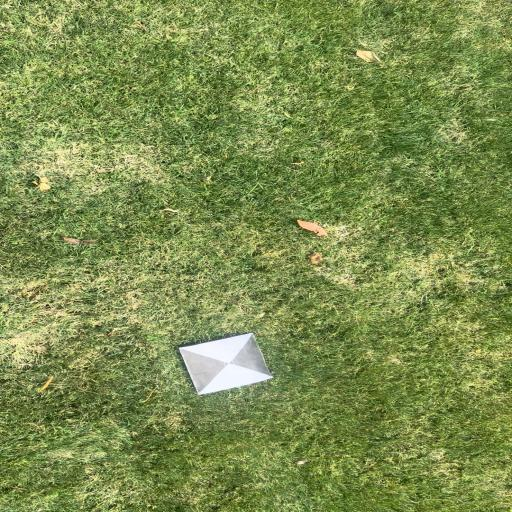target: (178, 333, 276, 395)
